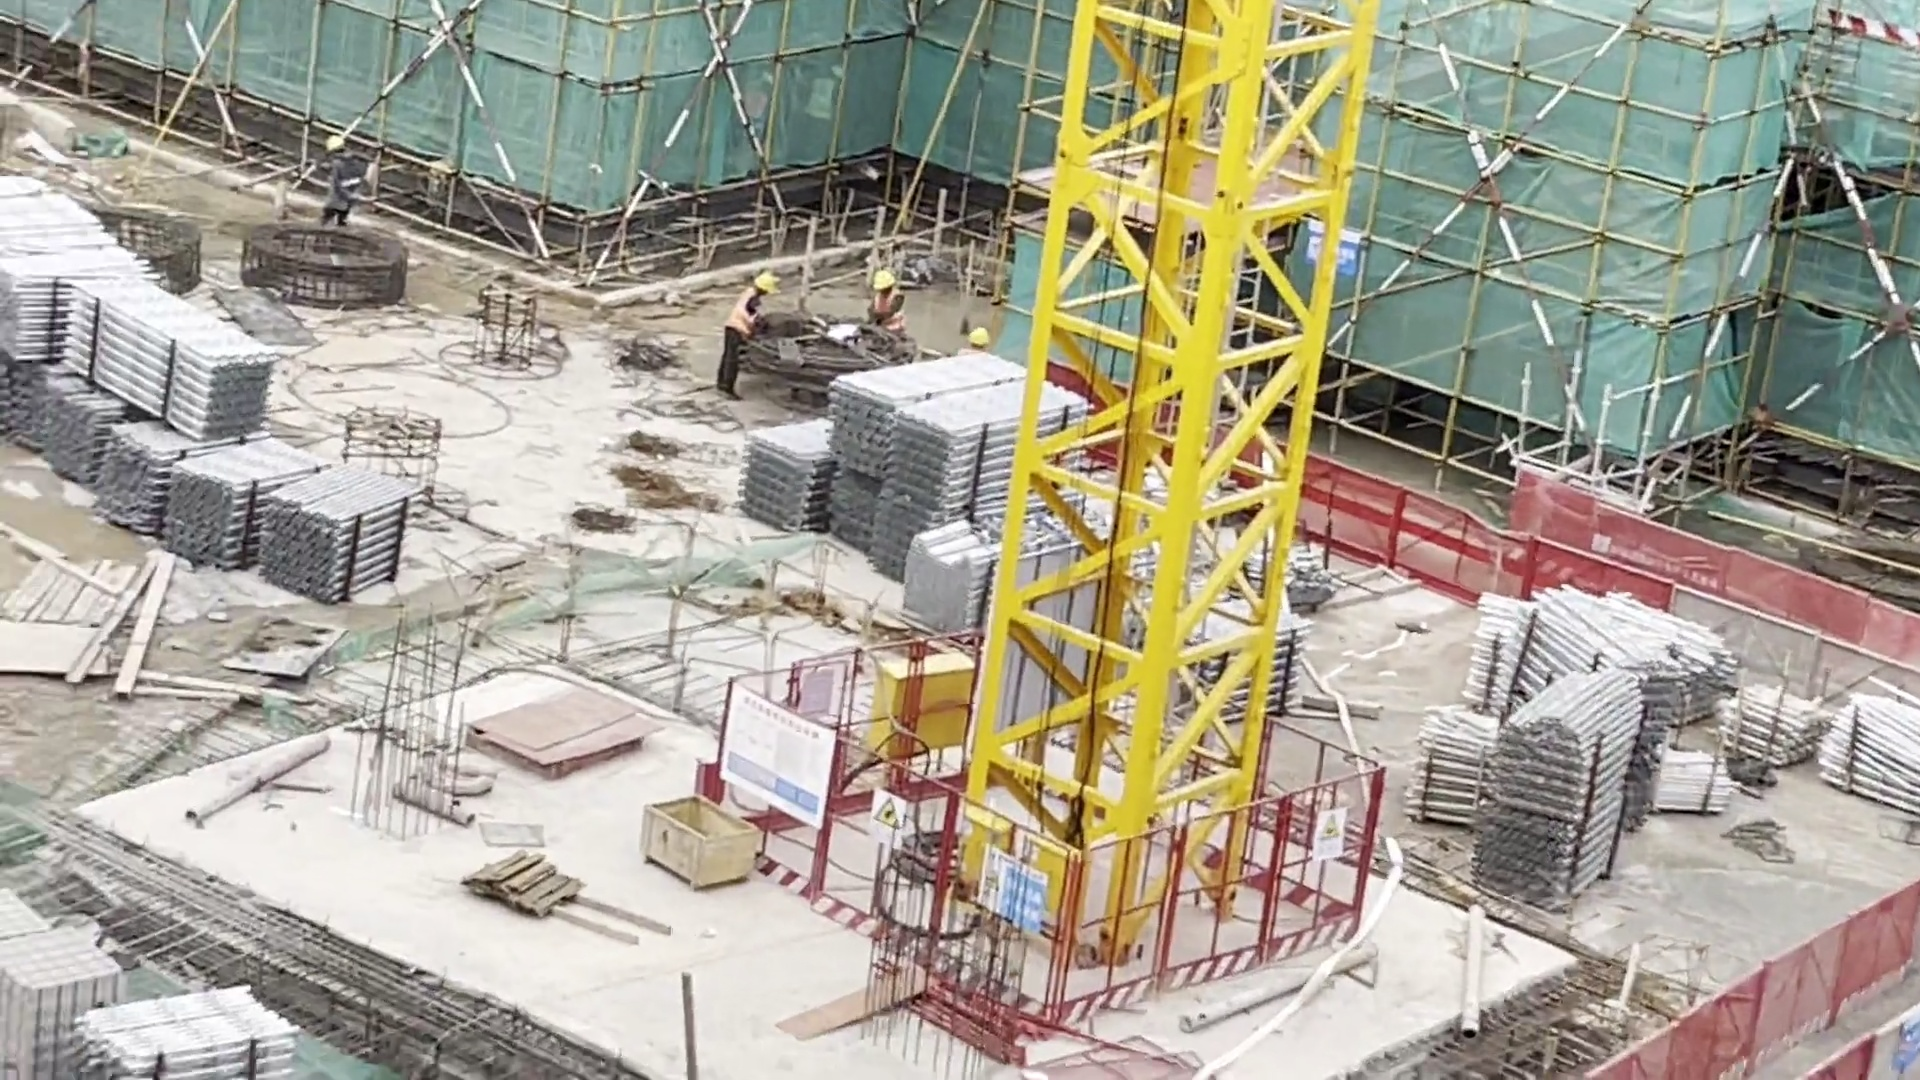brick: (3, 881, 126, 1080)
fence: (715, 577, 1403, 1002), (1354, 404, 1917, 739), (1533, 870, 1920, 1079)
helmet: (751, 269, 781, 295), (872, 268, 897, 291), (968, 325, 992, 349)
person: (710, 265, 787, 403), (864, 260, 913, 334), (966, 311, 997, 363)
scaffold: (826, 350, 1090, 568), (1468, 565, 1739, 729), (1473, 673, 1646, 920), (72, 284, 279, 436), (1, 173, 160, 367), (79, 978, 299, 1080), (266, 463, 423, 596), (1396, 696, 1502, 845), (1708, 663, 1833, 787), (173, 445, 282, 568), (1818, 678, 1920, 811), (1, 372, 118, 484), (898, 517, 1009, 634), (92, 424, 199, 544), (741, 418, 832, 537), (1659, 742, 1741, 820)
slogan: (710, 675, 833, 827), (984, 844, 1053, 935), (859, 789, 915, 838), (1310, 803, 1348, 868)
vest: (723, 285, 764, 343), (871, 291, 908, 330)
